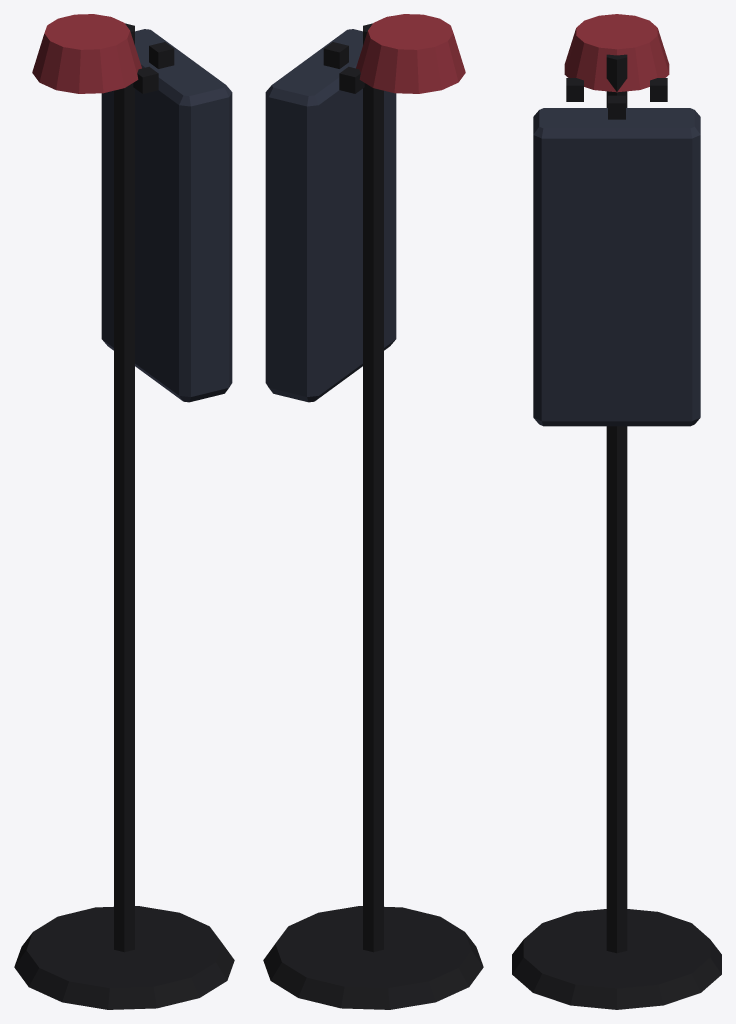
The model's file is coat_rack.obj.
3 views of the same model, side by side, from view 1: azimuth 30°, elevation 25°; view 2: azimuth 150°, elevation 25°; view 3: azimuth 270°, elevation 25° (orthographic). The views are drawn at different scales.
Parts seen in each view (by area): view 1: coat_rack; view 2: coat_rack; view 3: coat_rack.
Boxes of the visible parts, bbox=[...] form: coat_rack: bbox=[14, 14, 234, 1009]; coat_rack: bbox=[263, 14, 483, 1009]; coat_rack: bbox=[512, 14, 721, 1009].
Bounding box in the file's own units: 0.36 × 1.69 × 0.351.
